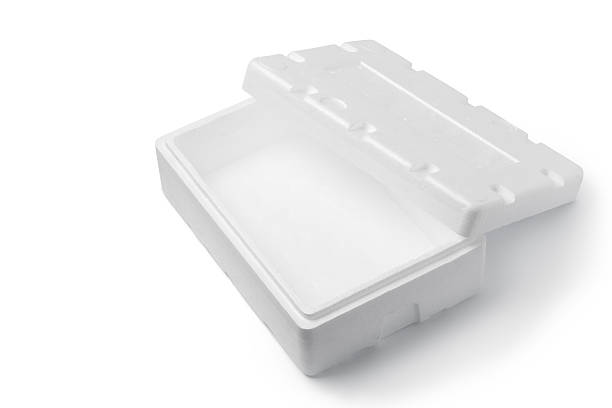Boxes: (156, 40, 583, 375)
